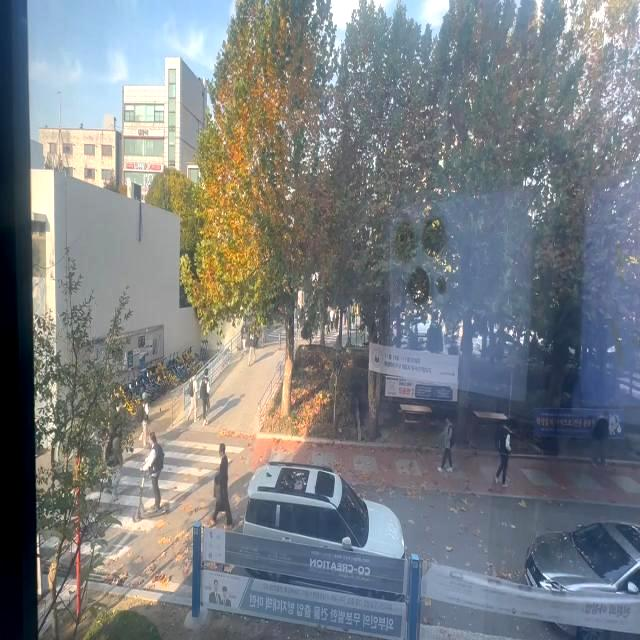bare_head: (143, 430, 165, 447)
human: (141, 427, 166, 513)
kickboard: (128, 501, 185, 524)
